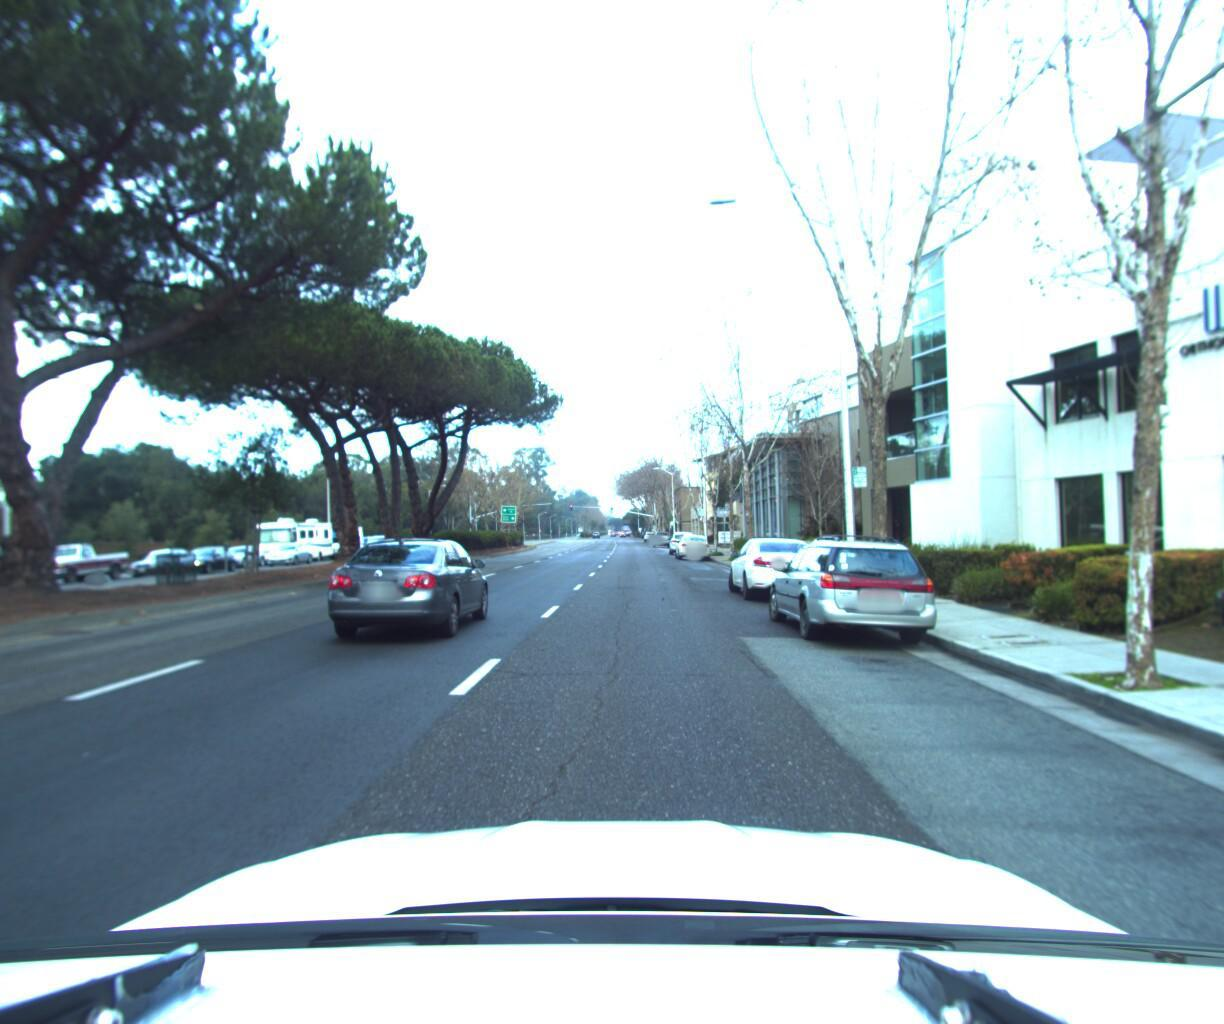car: (762, 527, 954, 652), (317, 537, 496, 654), (727, 530, 831, 603), (16, 541, 140, 588), (125, 545, 208, 579), (168, 544, 243, 576), (212, 543, 268, 570), (351, 536, 401, 563), (671, 527, 712, 559), (262, 541, 314, 566), (665, 527, 696, 553), (653, 527, 672, 542)
other_vehicle: (246, 511, 339, 569), (313, 520, 371, 561)
